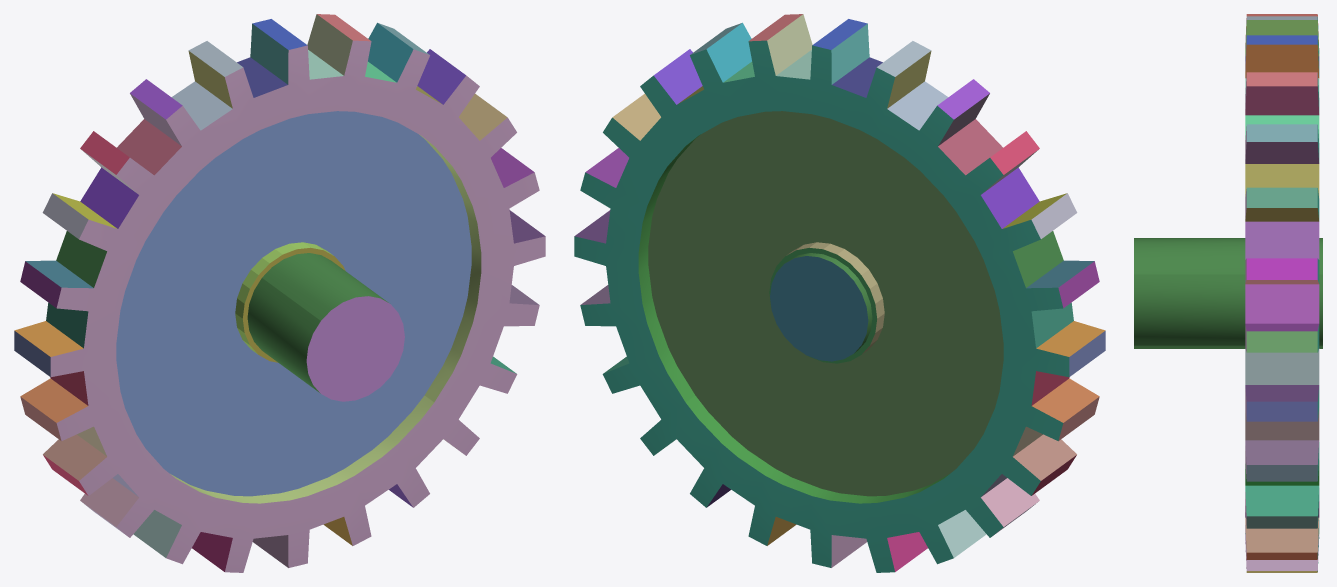
File: module-timer-03.glb
The picture shows the model from 3 angles, left to right: view 1: azimuth 30°, elevation 25°; view 2: azimuth 150°, elevation 25°; view 3: azimuth 270°, elevation 25°; orthographic projection. The views are drawn at different scales.
Bounding box in the file's own units: 0.7547 × 0.7547 × 0.255.
